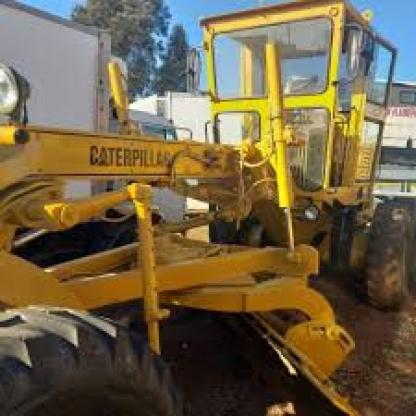bull_dozer/loader/grader: (7, 4, 414, 406)
